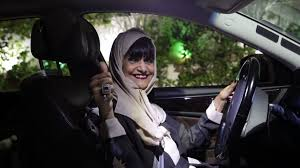middle_eastern_Female: (122, 48, 159, 88)
